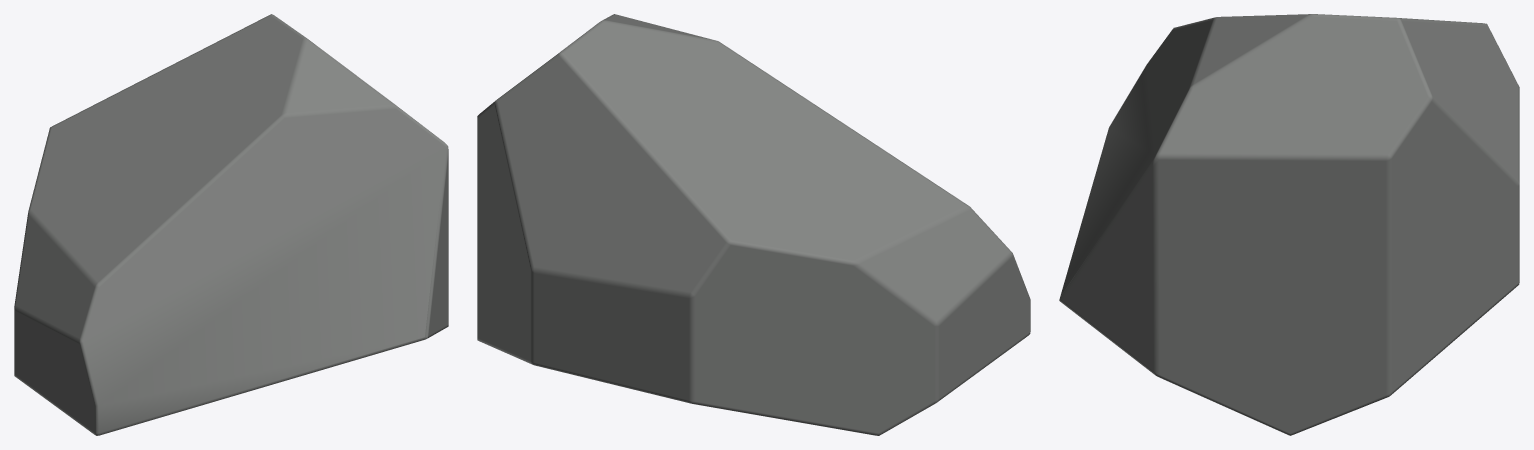
File: SM_Stone01.fbx
3 renders of one model, left to right at view 1: azimuth 30°, elevation 25°; view 2: azimuth 150°, elevation 25°; view 3: azimuth 270°, elevation 25°, orthographic. The views are drawn at different scales.
Parts seen in each view (by area): view 1: Stone01.001; view 2: Stone01.001; view 3: Stone01.001.
Boxes of the visible parts, box(x1,y1,x2,y2) form: Stone01.001: box(14, 14, 448, 435); Stone01.001: box(477, 14, 1030, 435); Stone01.001: box(1059, 14, 1519, 435).
Bounding box in the file's own units: 281 × 230 × 249.
